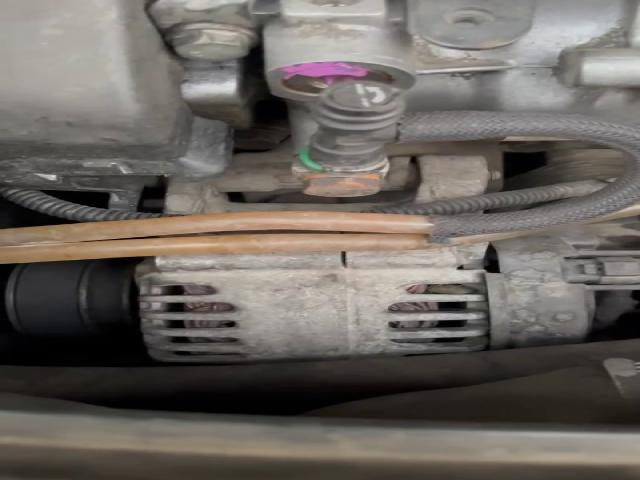alternator: (137, 243, 490, 362)
high_pressure_pump: (254, 0, 638, 150)
